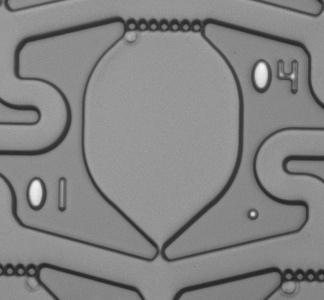AptNum: (245, 58, 305, 102)
StNum: (21, 173, 75, 216)
